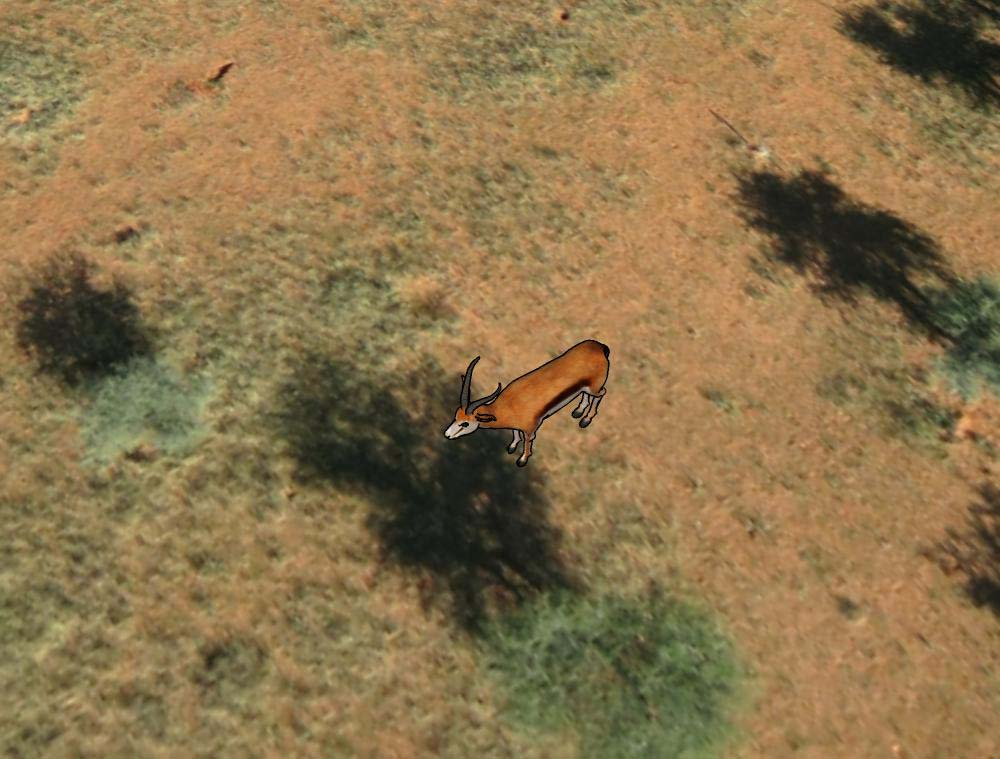springbok: (442, 334, 614, 468)
